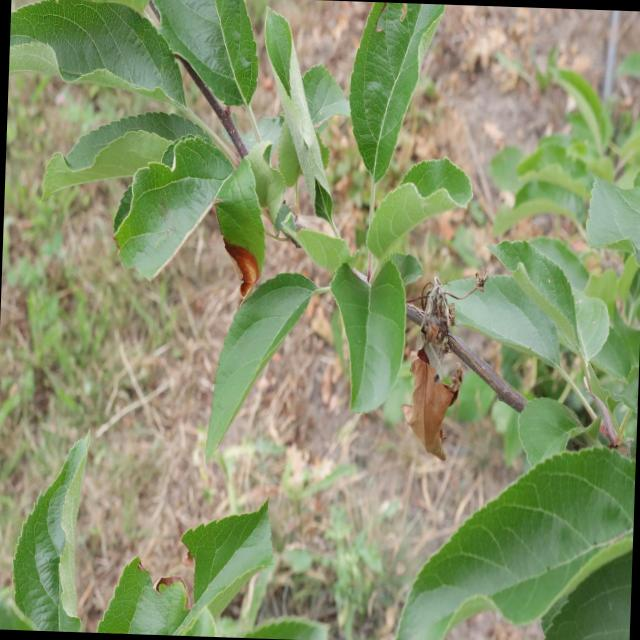-FireBlight-: (412, 293, 477, 465)
